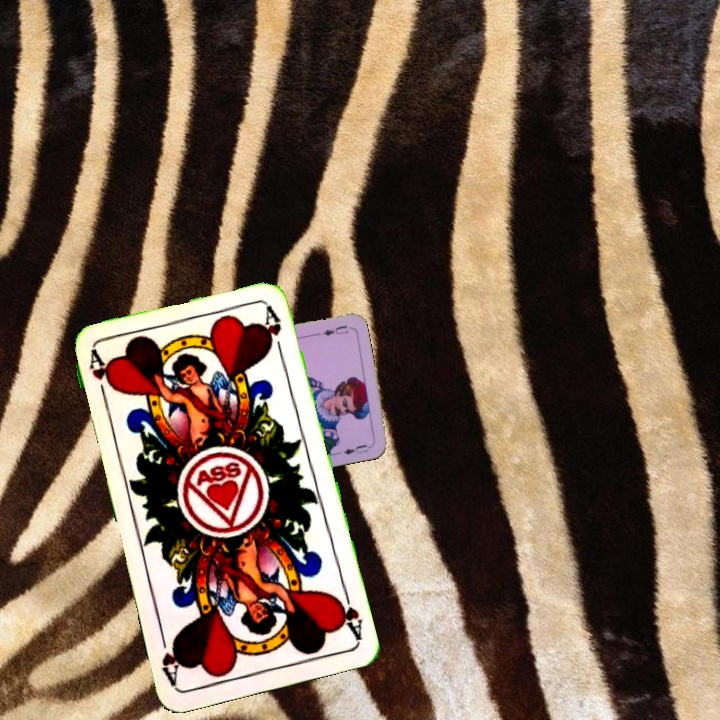EU: (319, 321, 351, 338)
HA: (330, 583, 365, 642), (84, 347, 113, 406)
